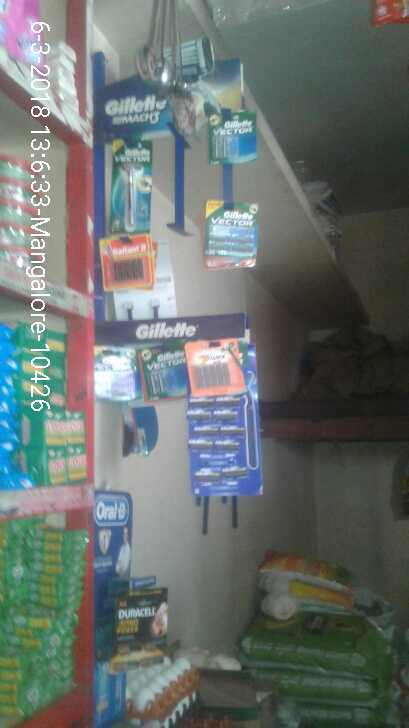gillette: (109, 146, 144, 232), (207, 201, 253, 261), (210, 107, 255, 160), (139, 349, 190, 395)
